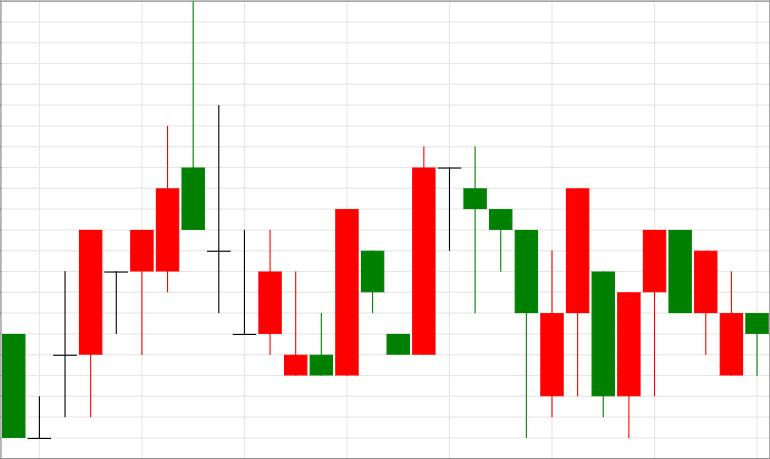bullish_engulfing_rise: (182, 1, 359, 376)
hanging_man_fall: (28, 229, 154, 441)
